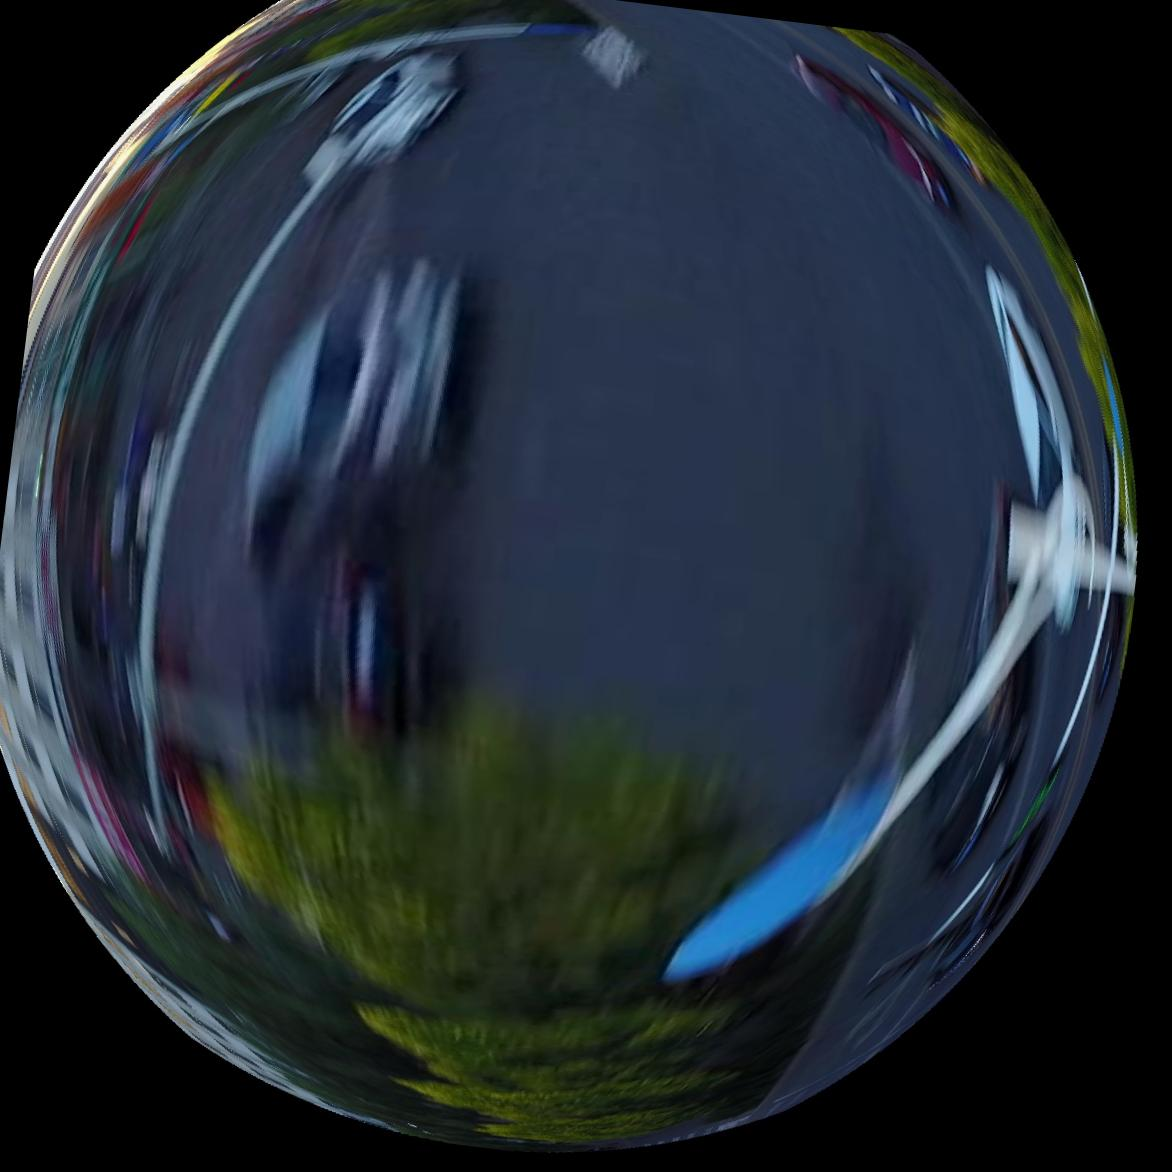cars: (245, 255, 466, 550), (794, 50, 958, 214)
